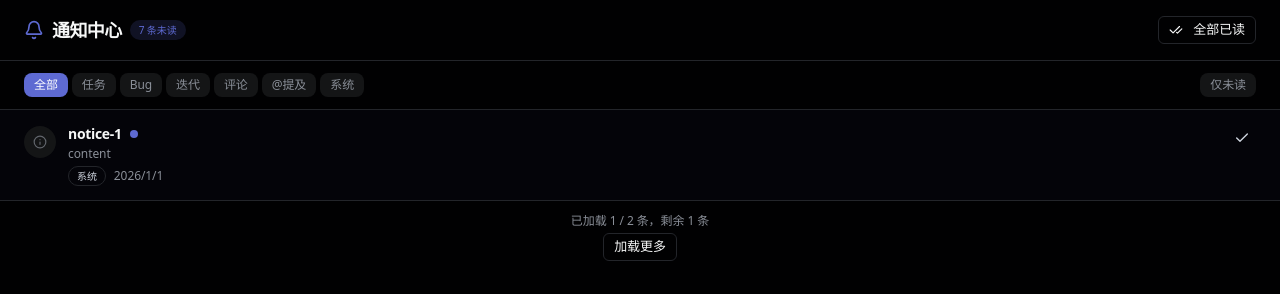
Test case: NotificationsContent pagination and global unread state › uses the global badge count and exposes pending states for later pages and mark-all
The width and height of the screenshot is (1280, 294).
Later steps or results of the test are not shown.
expect the heading "notice-1" is shown: met, box [68, 124, 122, 144]
expect the text "7 条未读" is shown: met, box [130, 20, 186, 40]
Click the button "加载更多" at (640, 247), box [603, 233, 677, 261]
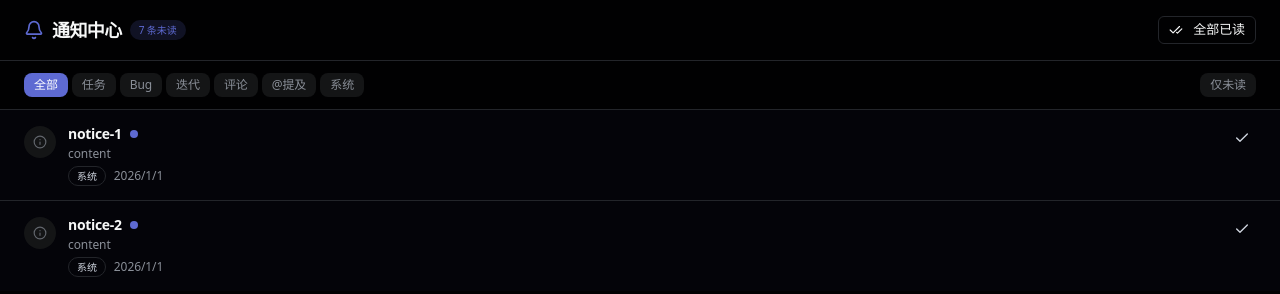
expect the heading "notice-2" is shown: met, box [68, 215, 122, 235]
expect the button "加载更多" is gone: met
